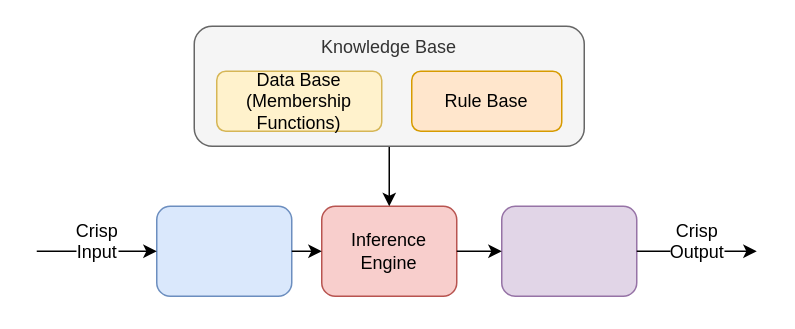
Some shapes in this 795 by 329 pixel diagram are drawn without their labels. The shapes that lost their labels are listed below. From the top down, each one's centre as x and y in pixels, then its label:
At point 223,250: "Fuzzification".
At point 568,250: "Defuzzification".
